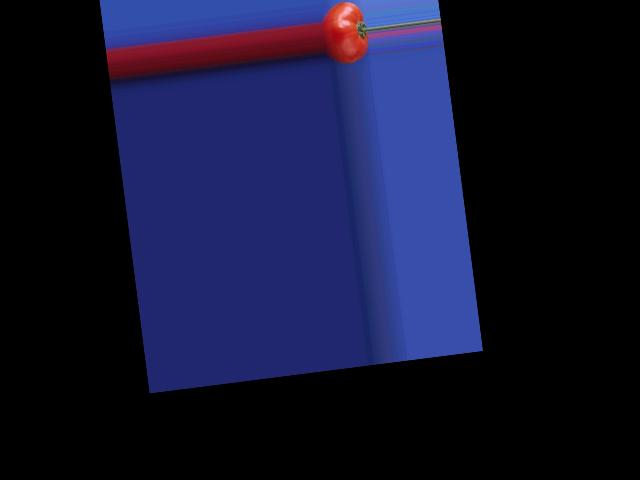tomato: (318, 0, 371, 66)
